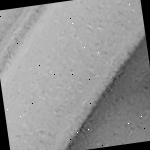colony: (55, 77, 150, 150)
